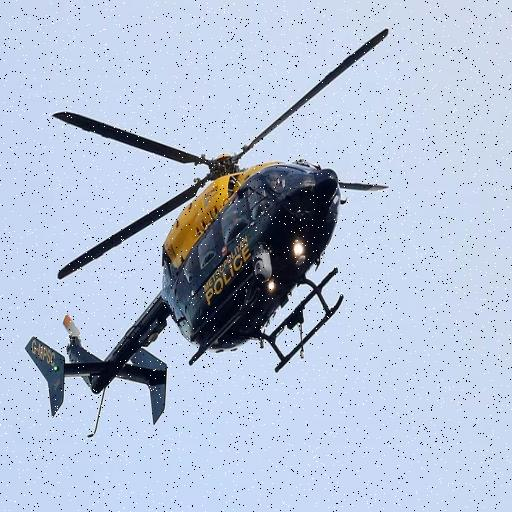helicopter: (25, 17, 394, 446)
